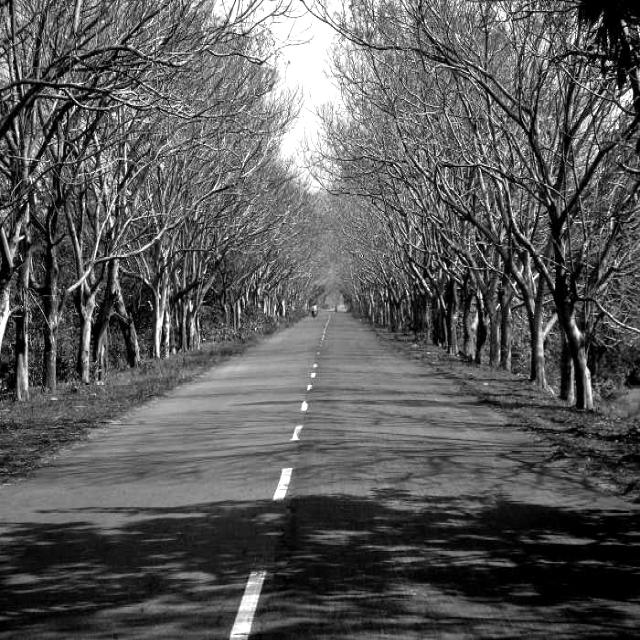cleat: (130, 215, 640, 640)
